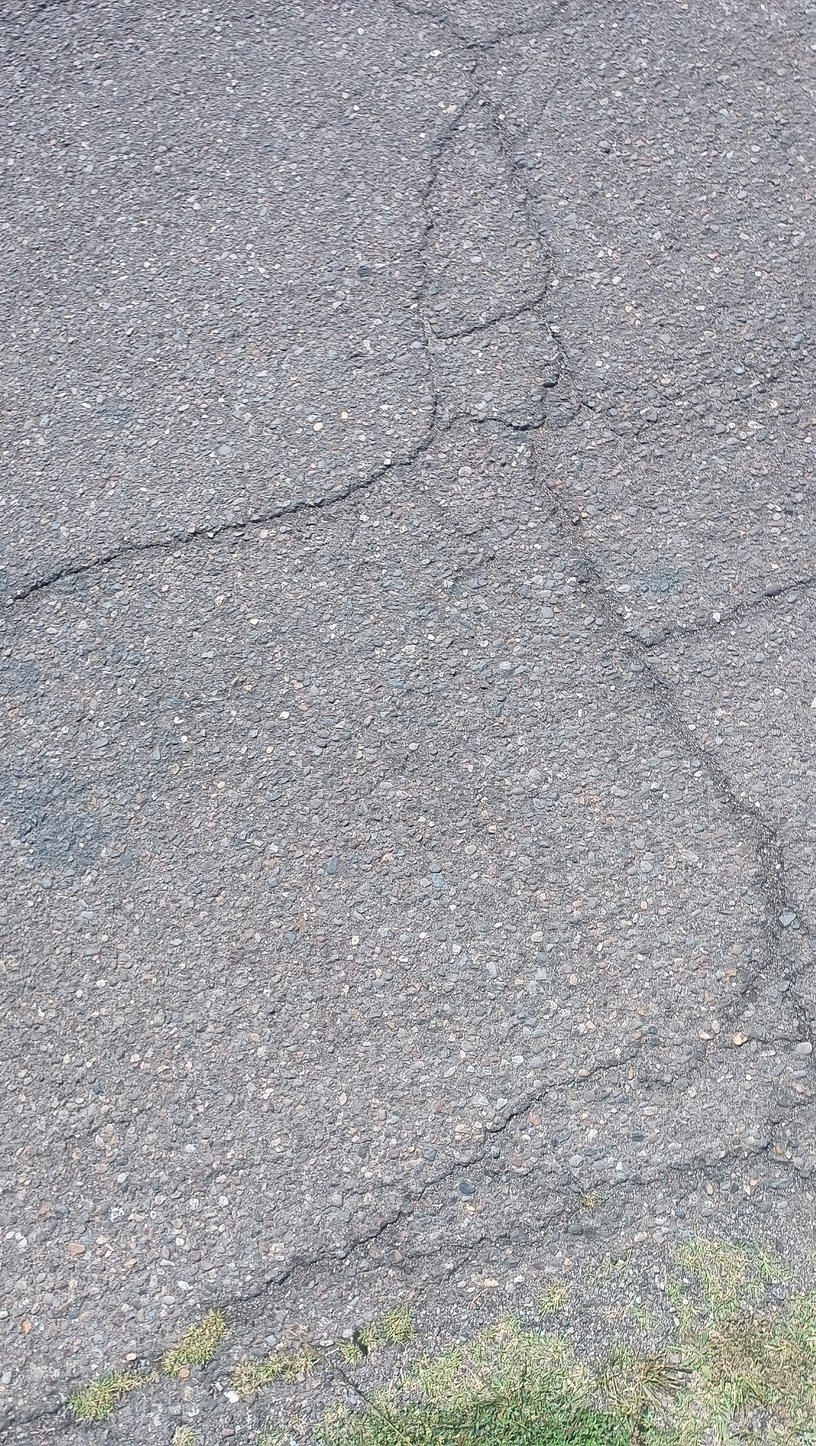GRIETA: (1, 1056, 653, 1444), (529, 430, 790, 944), (410, 1093, 816, 1290), (7, 467, 388, 606), (650, 576, 813, 654), (467, 0, 570, 80)
PIEL DE COCODRILO: (395, 81, 615, 459)
